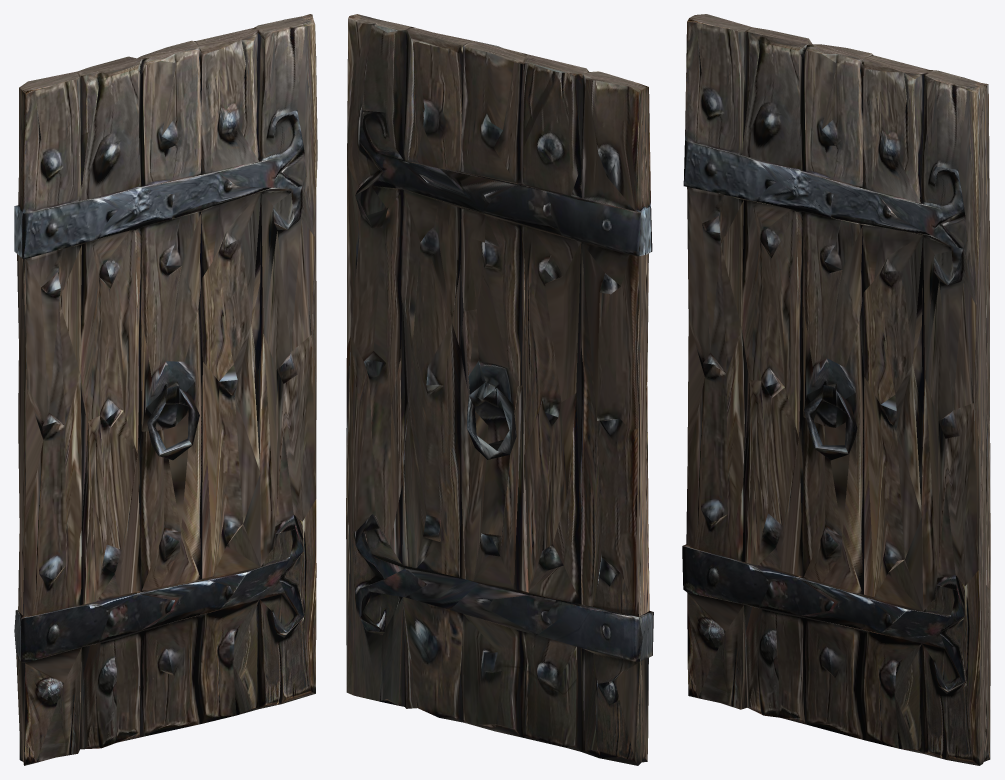
Rendered from StuddedDoor.glb.
3 renders of one model, left to right at view 1: azimuth 30°, elevation 25°; view 2: azimuth 150°, elevation 25°; view 3: azimuth 330°, elevation 25°, orthographic.
Visible parts, largest first — view 1: StuddedDoor; view 2: StuddedDoor; view 3: StuddedDoor.
Part boxes in pixels (x1,y1,x2,y2): StuddedDoor: (14,14,317,765); StuddedDoor: (346,14,653,765); StuddedDoor: (682,14,990,765).
Size of the model in its own units: 0.894 by 1.94 by 0.08.
Materials: 1 (1 with a texture image).
